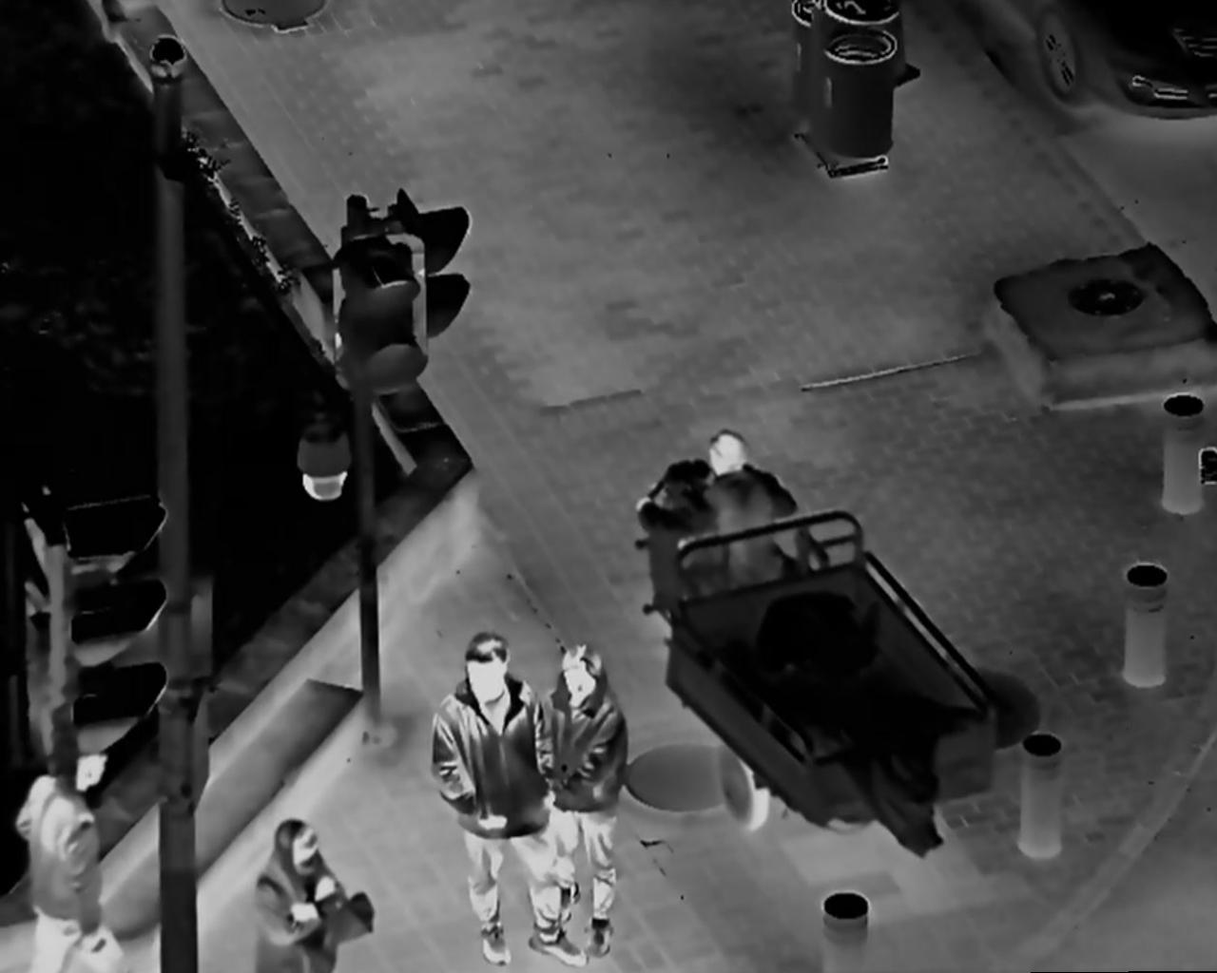person: (427, 629, 590, 969), (630, 425, 798, 613), (536, 642, 624, 961), (18, 734, 122, 972), (239, 811, 377, 973)
